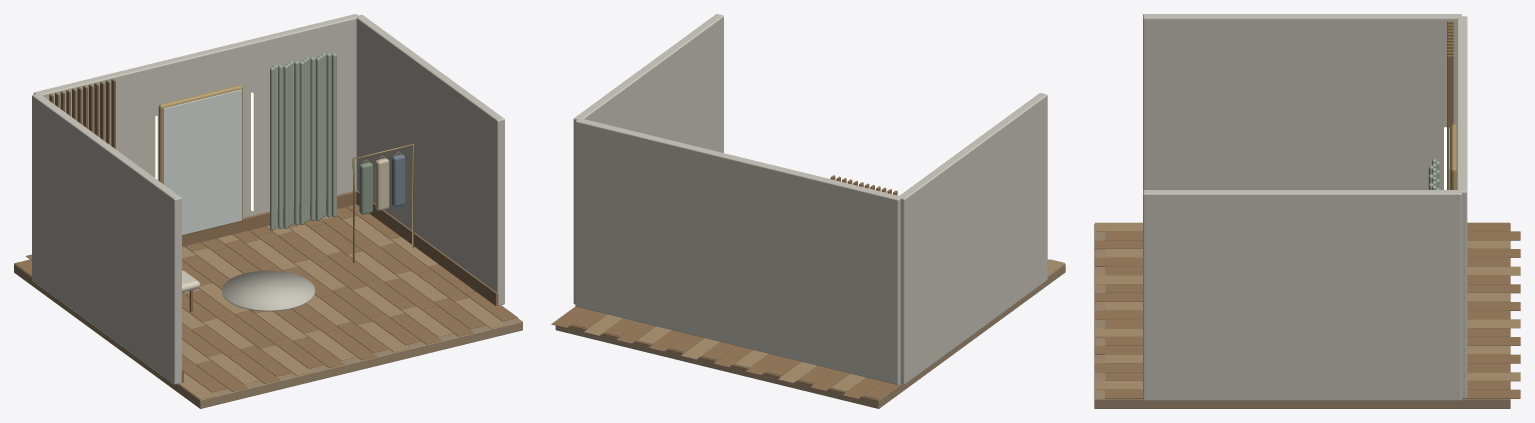
The model's file is changing-room.glb.
3 views of the same model, side by side, from view 1: azimuth 30°, elevation 25°; view 2: azimuth 150°, elevation 25°; view 3: azimuth 270°, elevation 25° (orthographic). The views are drawn at different scales.
Parts seen in each view (by area): view 1: Warm plaster, Warm oak, Light oak, Linen curtain, Mirror_Surface, Oak floor, Honed limestone, Brushed brass, Display textile 1, Display textile 2, Display textile 0, Warm diffuser; view 2: Warm plaster, Warm oak, Oak floor, Light oak; view 3: Warm plaster, Warm oak, Light oak, Oak floor, Brushed brass.
Part boxes in pixels (<box>): Warm plaster: <box>32,14,504,384</box>; Warm oak: <box>14,79,517,392</box>; Light oak: <box>179,212,505,399</box>; Linen curtain: <box>270,53,336,230</box>; Mirror_Surface: <box>163,89,241,235</box>; Oak floor: <box>14,207,522,408</box>; Honed limestone: <box>222,270,314,311</box>; Brushed brass: <box>158,85,413,262</box>; Display textile 1: <box>375,158,389,210</box>; Display textile 2: <box>391,154,405,206</box>; Display textile 0: <box>359,162,372,214</box>; Warm diffuser: <box>155,92,253,211</box>; Warm plaster: <box>573,14,1047,384</box>; Warm oak: <box>551,175,898,399</box>; Oak floor: <box>555,259,1065,408</box>; Light oak: <box>584,259,1064,391</box>; Warm plaster: <box>1143,14,1467,400</box>; Warm oak: <box>1095,21,1520,398</box>; Light oak: <box>1095,222,1520,389</box>; Oak floor: <box>1094,224,1510,408</box>; Brushed brass: <box>1450,124,1456,189</box>.
Size of the model in its own units: 6.15 by 3.46 by 6.14.
